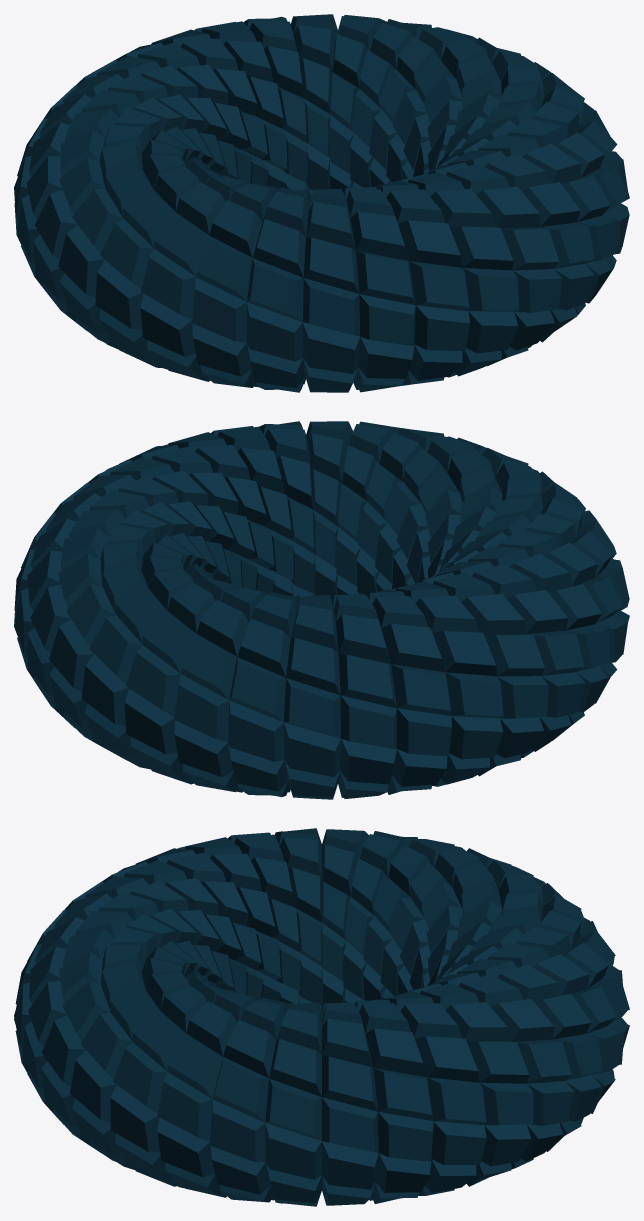
3 renders of one model, top to bottom at view 1: azimuth 30°, elevation 25°; view 2: azimuth 150°, elevation 25°; view 3: azimuth 270°, elevation 25°, orthographic.
Parts seen in each view (by area): view 1: TwistedTorus; view 2: TwistedTorus; view 3: TwistedTorus.
Boxes of the visible parts, x1,y1,x2,y2 form: TwistedTorus: [14, 14, 629, 392]; TwistedTorus: [14, 421, 629, 799]; TwistedTorus: [14, 828, 629, 1206].
Size of the model in its own units: 7.16 by 2.38 by 7.16.
